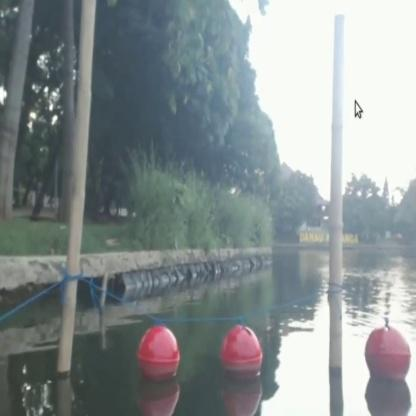red_buoy: (218, 323, 262, 381), (366, 324, 408, 384), (136, 323, 181, 379)
